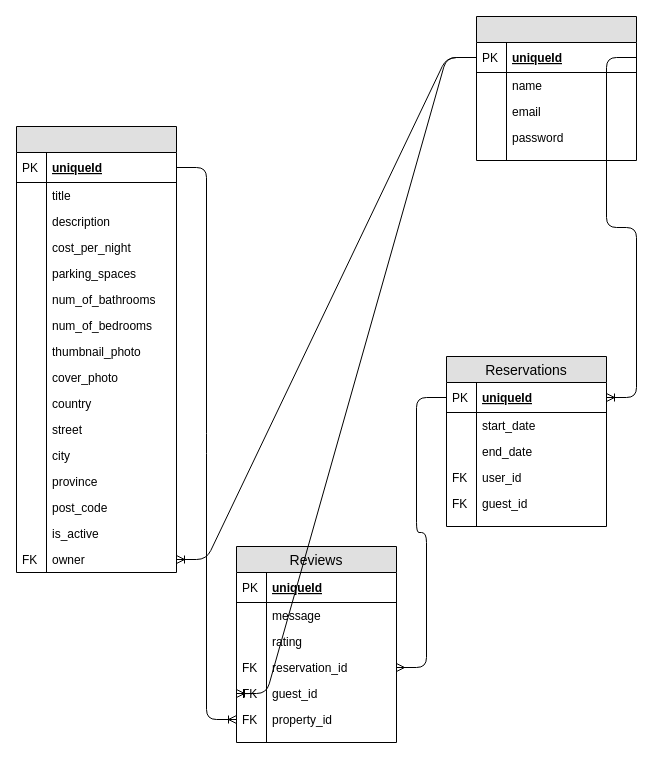
Some shapes in this 653 by 759 pixel diagram are drawn without their labels. The box of each missing label's shape, as (x1, y1, x2, y2) in pixels:
Properties: (16, 126, 176, 572)
Users: (476, 16, 636, 160)
